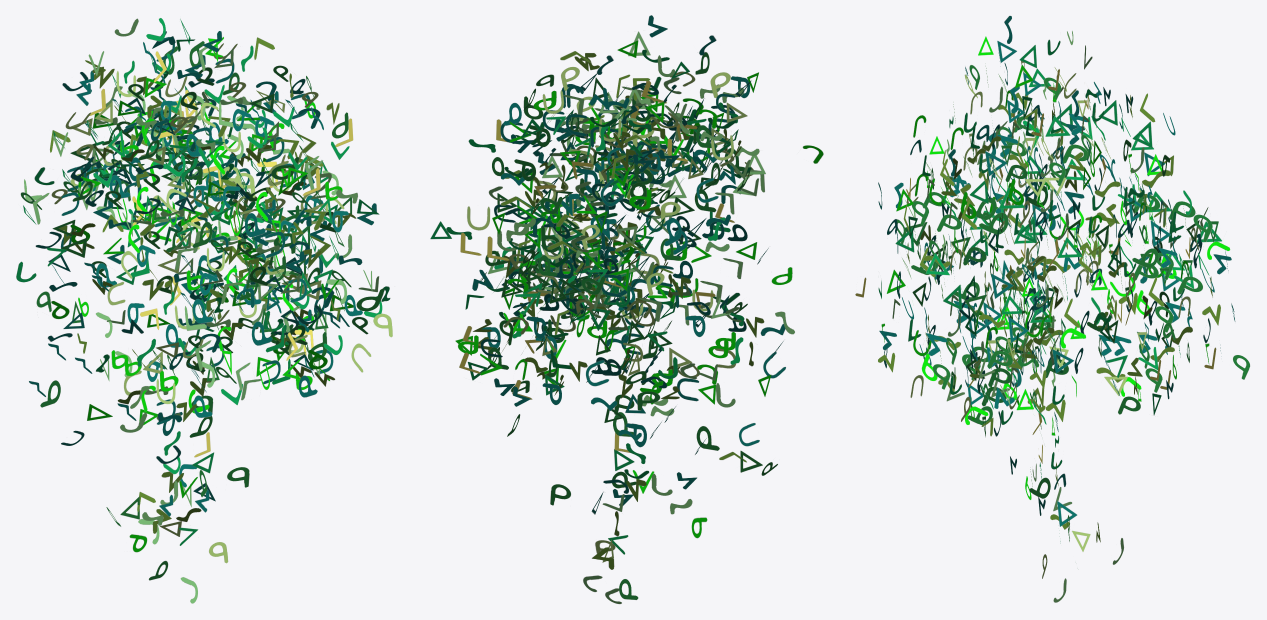
The model's file is Tree-Low-poly.glb.
3 views of the same model, side by side, from view 1: azimuth 30°, elevation 25°; view 2: azimuth 150°, elevation 25°; view 3: azimuth 270°, elevation 25° (orthographic). The views are drawn at different scales.
Visible parts, largest first — view 1: Ahorn tree.005; view 2: Ahorn tree.005; view 3: Ahorn tree.005.
Boxes of the visible parts, bbox=[...] form: Ahorn tree.005: bbox=[16, 18, 392, 603]; Ahorn tree.005: bbox=[430, 15, 823, 603]; Ahorn tree.005: bbox=[855, 15, 1250, 602].
Size of the model in its own units: 4.65 by 8.37 by 5.42.
Materials: 39 (39 with a texture image).
